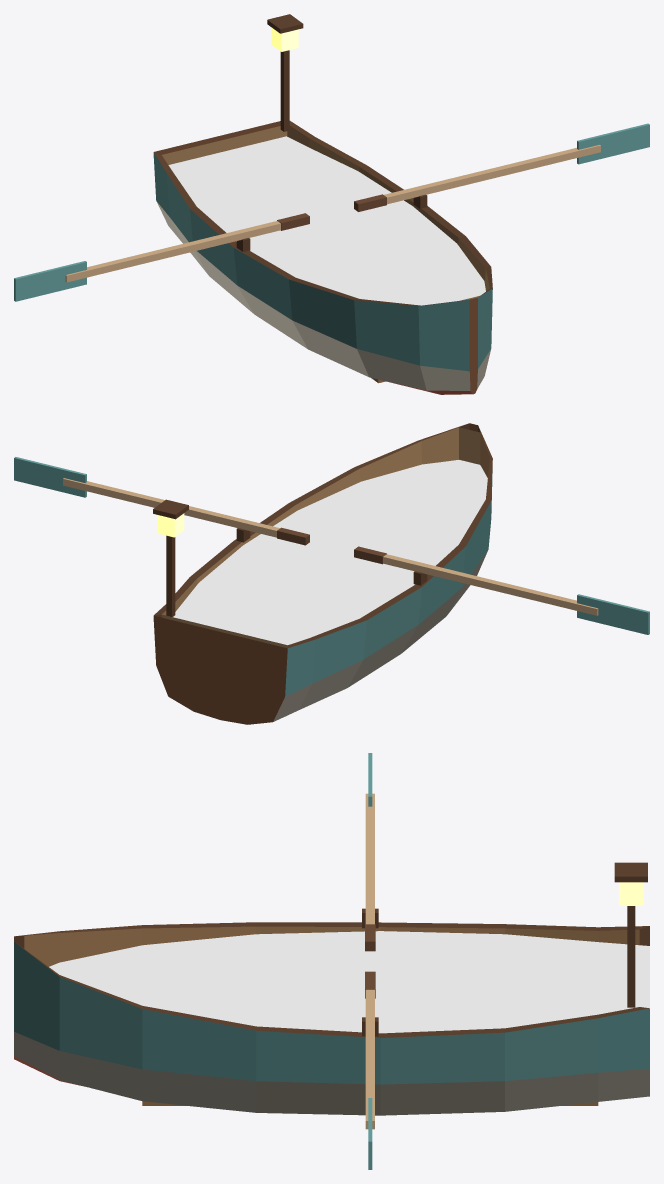
File: boat.glb
The picture shows the model from 3 angles, top to bottom: view 1: azimuth 30°, elevation 25°; view 2: azimuth 150°, elevation 25°; view 3: azimuth 270°, elevation 25°; orthographic projection. The views are drawn at different scales.
Parts seen in each view (by area): view 1: boat, water_mask, oar_l, oar_r; view 2: boat, water_mask, oar_r, oar_l, lantern; view 3: boat, water_mask, oar_l, oar_r, lantern.
Boxes of the visible parts, x1,y1,x2,y2 form: boat: [153, 14, 492, 394]; water_mask: [168, 136, 485, 305]; oar_l: [354, 123, 649, 211]; oar_r: [14, 213, 309, 301]; boat: [153, 423, 492, 724]; water_mask: [173, 460, 487, 645]; oar_r: [354, 546, 649, 634]; oar_l: [14, 457, 309, 545]; lantern: [157, 513, 184, 537]; boat: [14, 862, 649, 1115]; water_mask: [49, 931, 649, 1033]; oar_l: [365, 971, 375, 1169]; oar_r: [365, 753, 375, 951]; lantern: [619, 882, 643, 905].
Bounding box in the file's own units: 4.44 × 1.35 × 3.07.
